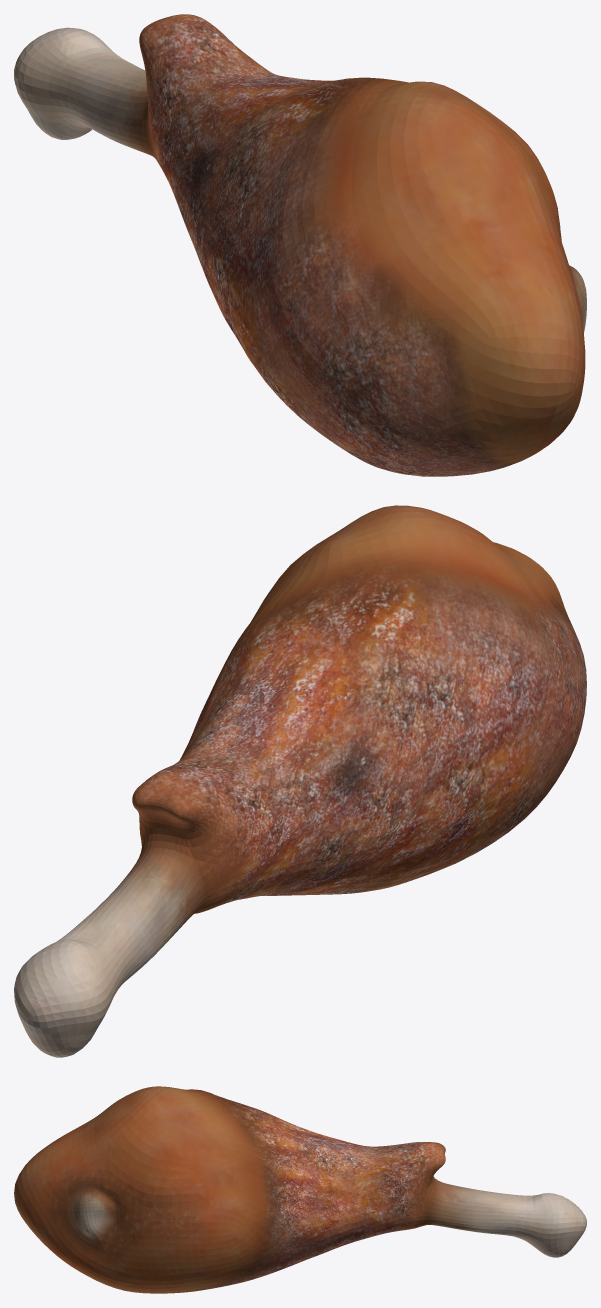
The model's file is Lowpolyturkleg2.OBJ.
3 views of the same model, one above another, from view 1: azimuth 30°, elevation 25°; view 2: azimuth 150°, elevation 25°; view 3: azimuth 270°, elevation 25° (orthographic). The views are drawn at different scales.
Parts seen in each view (by area): view 1: Group22195; view 2: Group22195; view 3: Group22195.
Part boxes in pixels (x1,y1,x2,y2): Group22195: (14,14,586,476); Group22195: (14,505,586,1057); Group22195: (14,1086,586,1293).
Bounding box in the file's own units: 1.21 × 1.35 × 3.61.
Materials: 1 (1 with a texture image).
